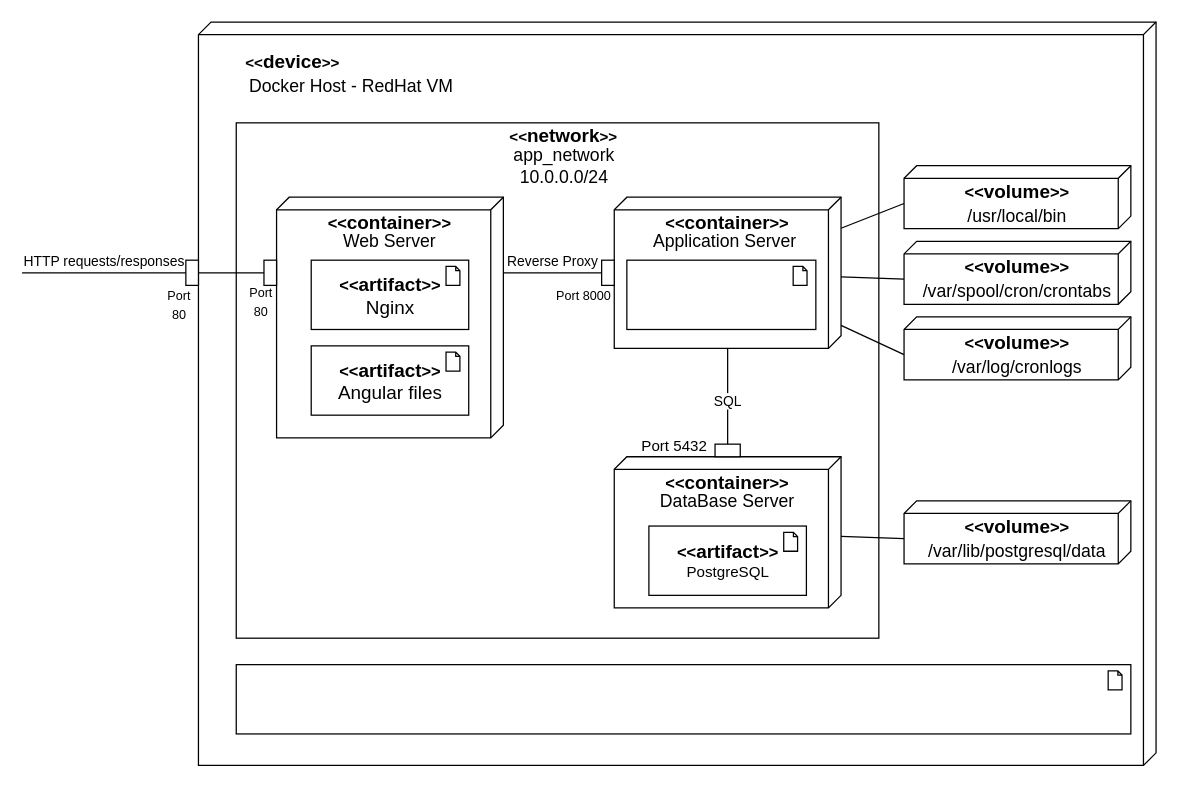
Image size: 1178x788. Some labels were removed from this diagram. Each missing label, with the centre of its shape:
"<< artifact >> docker-compose.yml" belongs at (683,698).
"<< WSGI server >> Gunicorn" belongs at (721,294).
